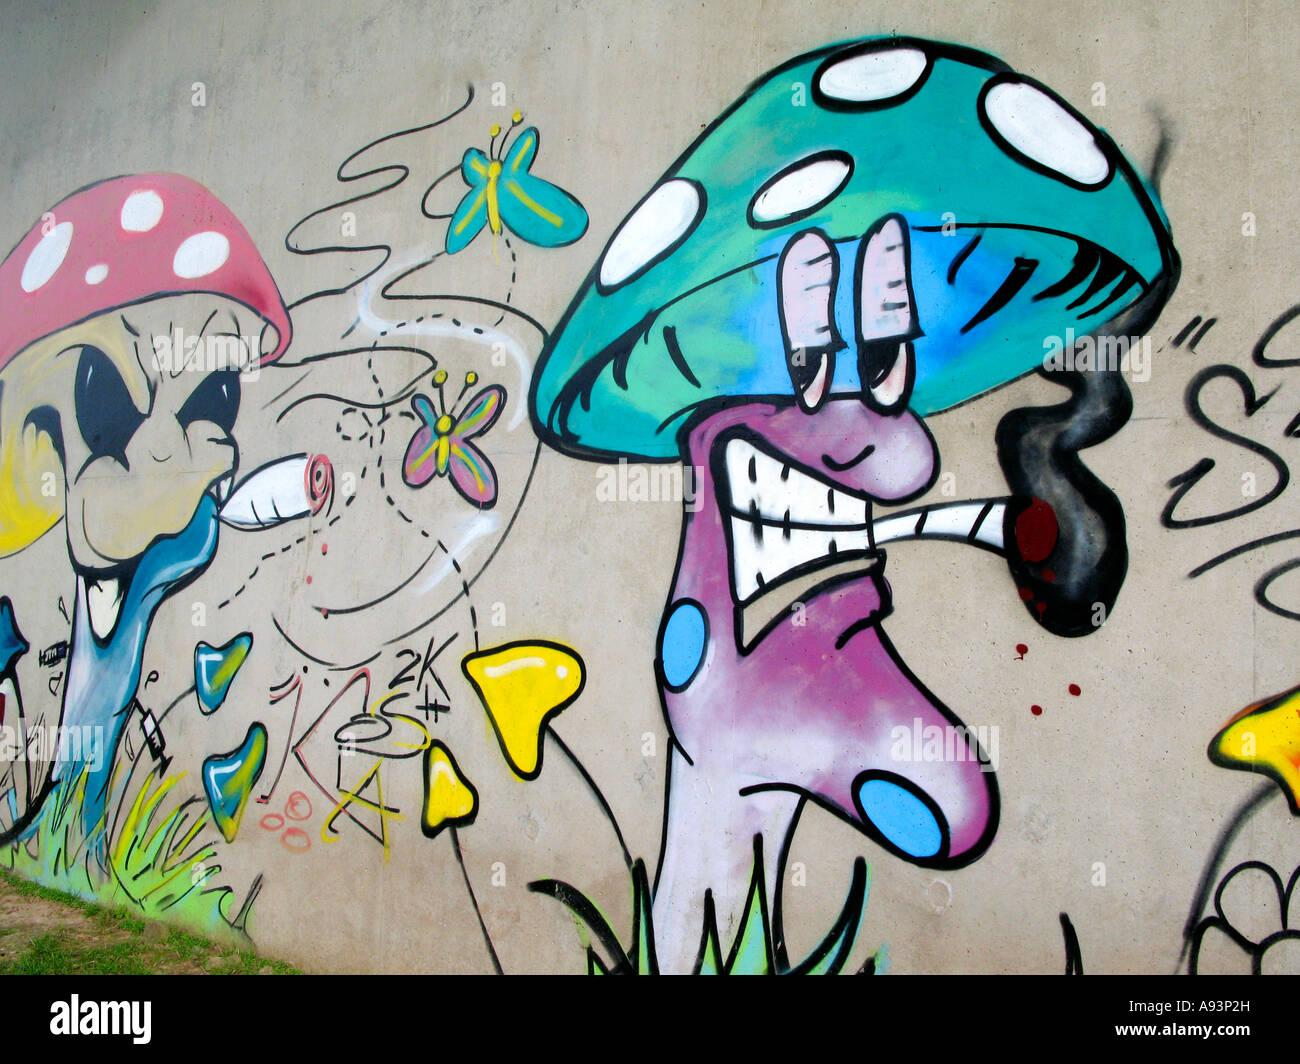graffiti: (530, 39, 1177, 973), (310, 119, 586, 973), (0, 174, 292, 929), (285, 84, 473, 314), (275, 355, 410, 647), (1181, 685, 1299, 974), (1161, 437, 1288, 529), (221, 454, 335, 530), (202, 723, 267, 843), (1188, 366, 1273, 439), (1189, 529, 1299, 576), (260, 791, 313, 853), (1254, 558, 1299, 621), (215, 635, 247, 659)
